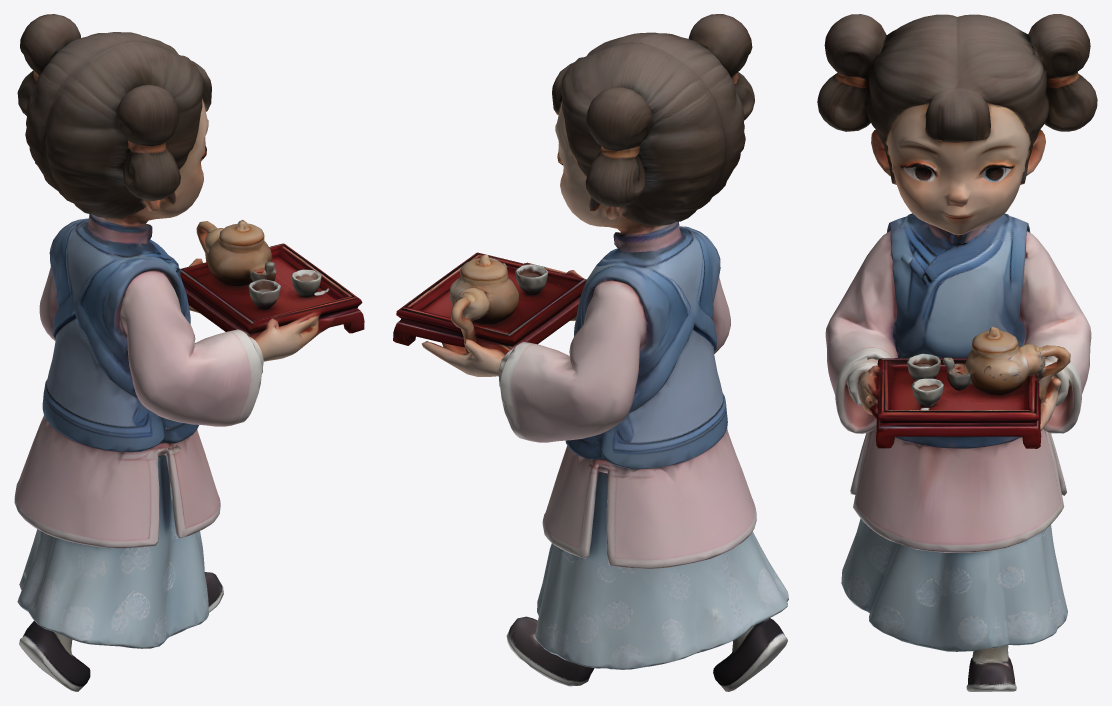
The model's file is yahuan_tray.glb.
3 renders of one model, left to right at view 1: azimuth 30°, elevation 25°; view 2: azimuth 150°, elevation 25°; view 3: azimuth 270°, elevation 25°, orthographic. The views are drawn at different scales.
Visible parts, largest first — view 1: tripo_node_61d8c449-903e-48dd-835b-c4cf38620ea0; view 2: tripo_node_61d8c449-903e-48dd-835b-c4cf38620ea0; view 3: tripo_node_61d8c449-903e-48dd-835b-c4cf38620ea0.
Part boxes in pixels (box(x1,y1,x2,y2)): tripo_node_61d8c449-903e-48dd-835b-c4cf38620ea0: box(14, 14, 364, 691); tripo_node_61d8c449-903e-48dd-835b-c4cf38620ea0: box(393, 14, 788, 691); tripo_node_61d8c449-903e-48dd-835b-c4cf38620ea0: box(817, 14, 1097, 691).
Bounding box in the file's own units: 0.5414 × 1 × 0.3959.
Materials: 1 (1 with a texture image).
